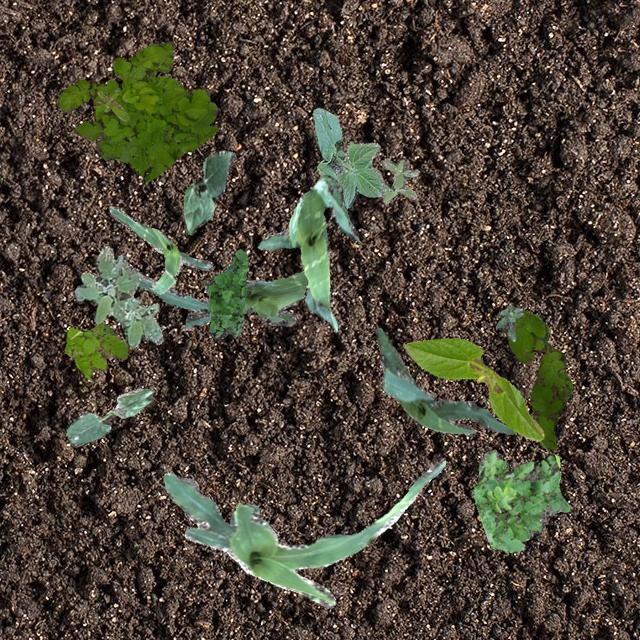crop: (162, 460, 444, 608), (256, 174, 358, 332), (374, 326, 514, 434), (402, 336, 542, 439), (126, 264, 306, 326), (108, 205, 210, 294), (312, 106, 384, 208), (66, 388, 152, 447), (182, 150, 234, 233)
weed: (56, 41, 216, 180), (471, 448, 568, 552), (74, 245, 162, 346), (507, 310, 571, 448), (206, 248, 248, 338), (64, 322, 130, 378), (380, 158, 418, 202), (92, 88, 128, 120), (496, 304, 522, 341)
